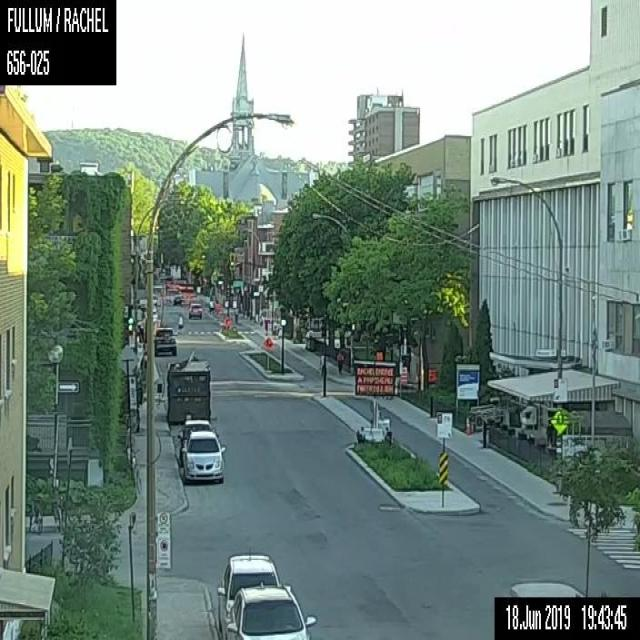construction: (354, 360, 396, 444), (263, 336, 273, 349), (399, 366, 406, 383), (464, 416, 470, 433), (428, 368, 435, 380), (223, 316, 231, 326), (376, 351, 382, 358)
pedestrian: (336, 349, 343, 373)
vehicle: (224, 581, 316, 639), (217, 552, 280, 634), (181, 428, 225, 482), (177, 419, 218, 467), (153, 327, 176, 356), (188, 302, 202, 318), (173, 296, 181, 304)
